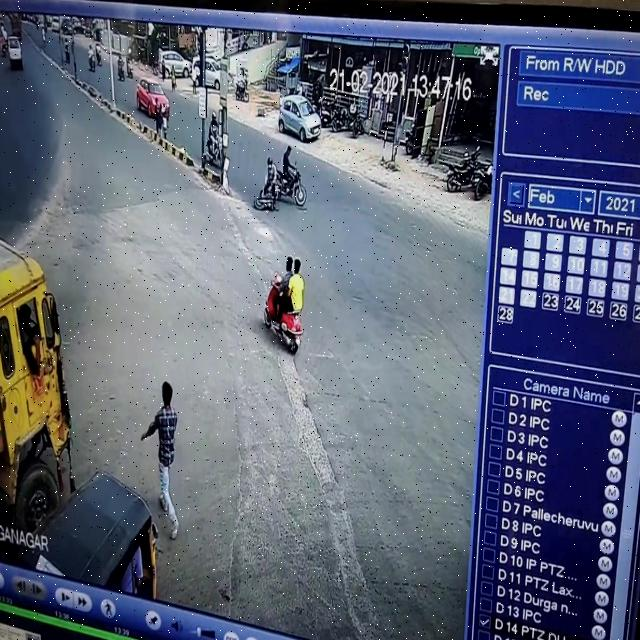accident: (250, 143, 310, 219)
